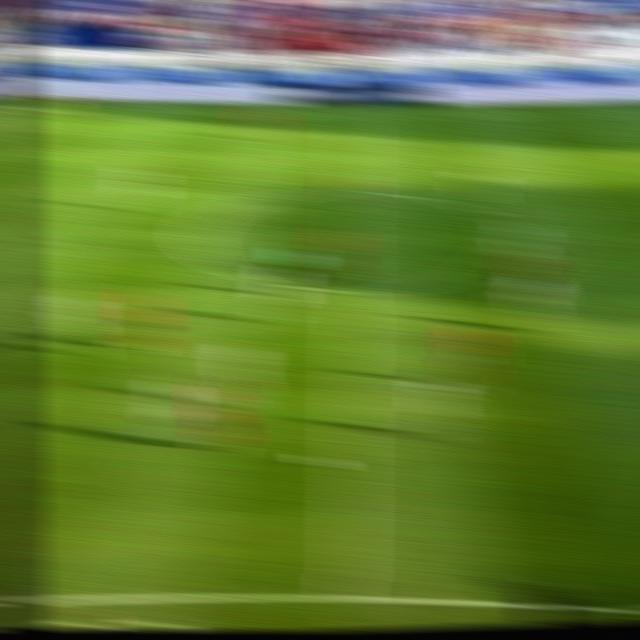halfcircle_bottom: (327, 274, 371, 305)
halfcircle_top: (333, 179, 374, 203)
midline_bottom_intersection: (321, 575, 373, 611)
midline_top_intersection: (334, 104, 371, 125)
